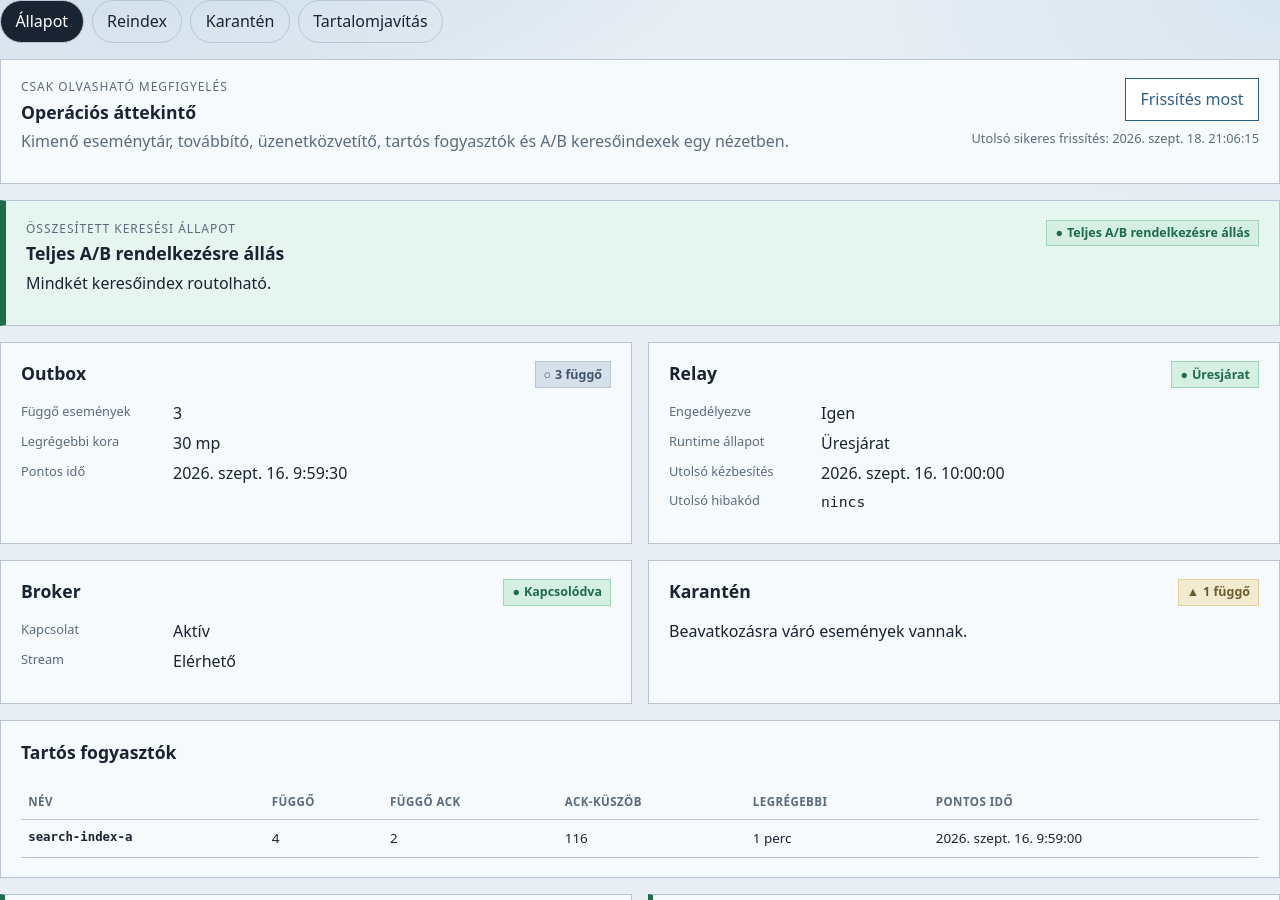
Test: OperationsPage › retains the latest successful snapshot and marks it stale after a refresh failure
The width and height of the screenshot is (1280, 900).
Expected: the heading "Teljes A/B rendelkezésre állás" is shown, [26, 241, 284, 267]
Click the button "Frissítés most".
click(1192, 100)  # box [1125, 78, 1259, 121]
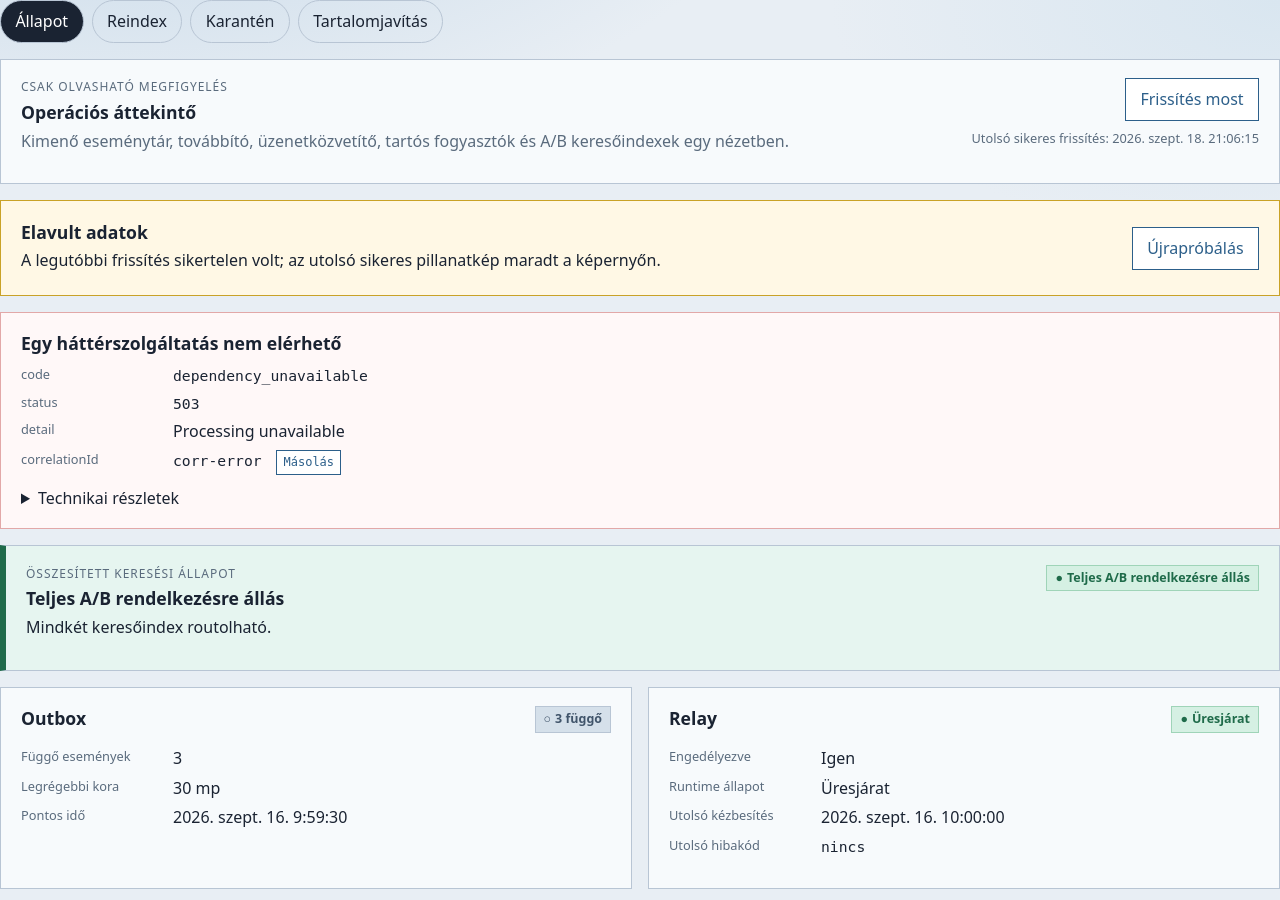
Result: the heading "Elavult adatok" is shown at [21, 220, 148, 244]
Result: the button "Újrapróbálás" is shown at [1132, 227, 1259, 270]
